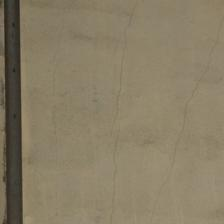Crack: (0, 0, 152, 139), (60, 17, 162, 126)
